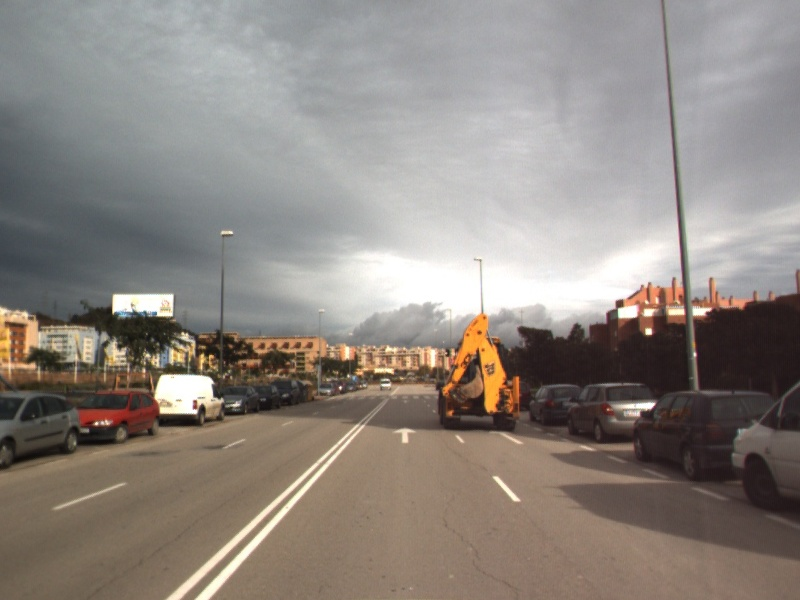STRAIGHT: (487, 428, 526, 446), (390, 425, 419, 445)
